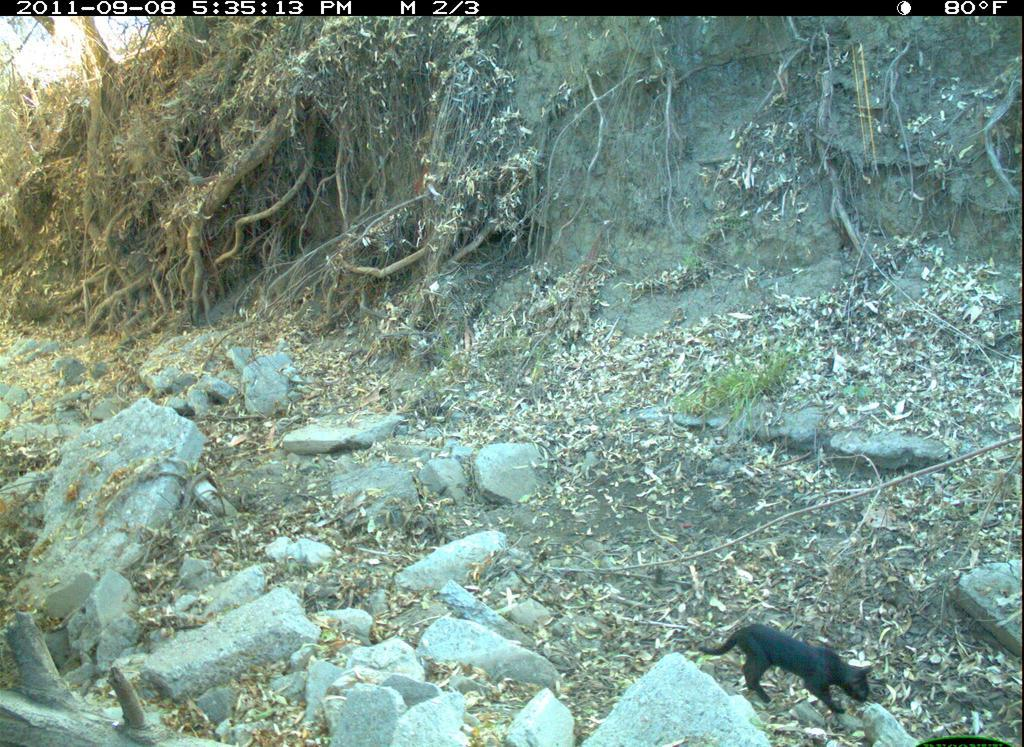cat: (694, 607, 880, 722)
